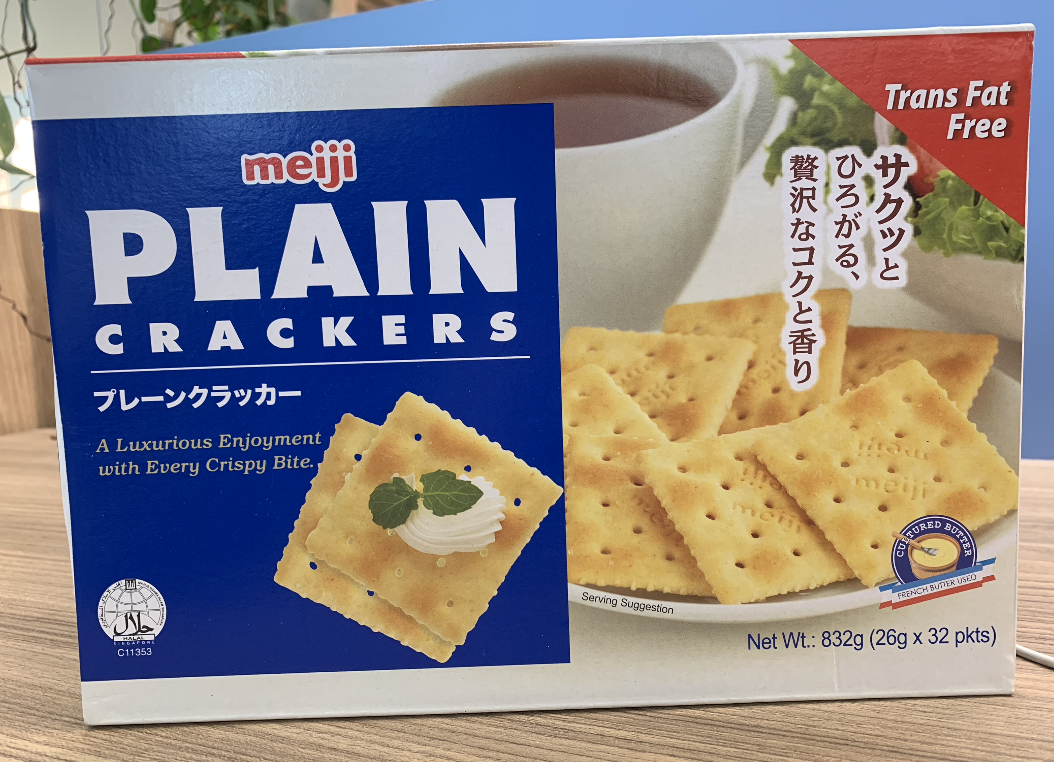crackers_800g-899g: (94, 82, 1013, 662)
